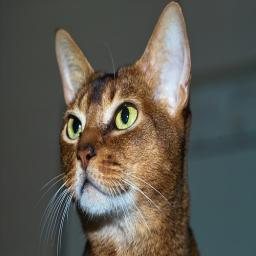catnose: (76, 144, 96, 170)
